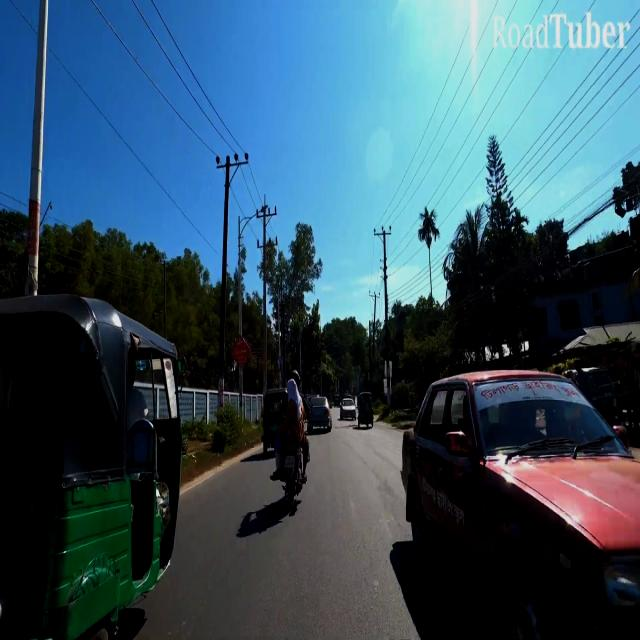red: (402, 366, 640, 640)
